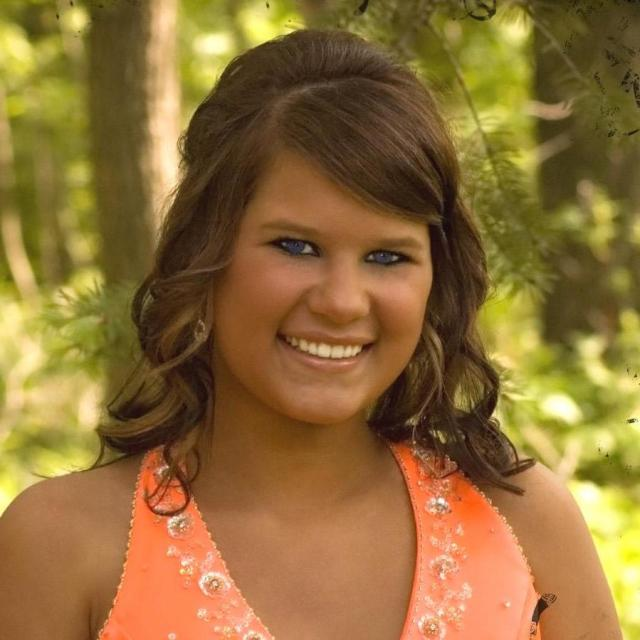no-glass: (262, 235, 419, 269)
